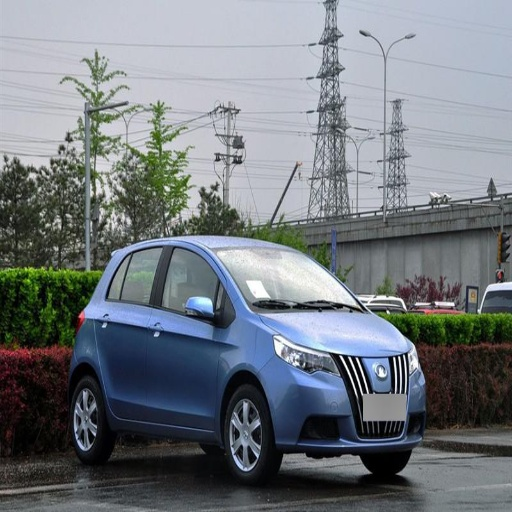front_bumper: (268, 353, 426, 455)
front_right_door: (149, 244, 232, 429)
front_right_light: (275, 336, 338, 374)
